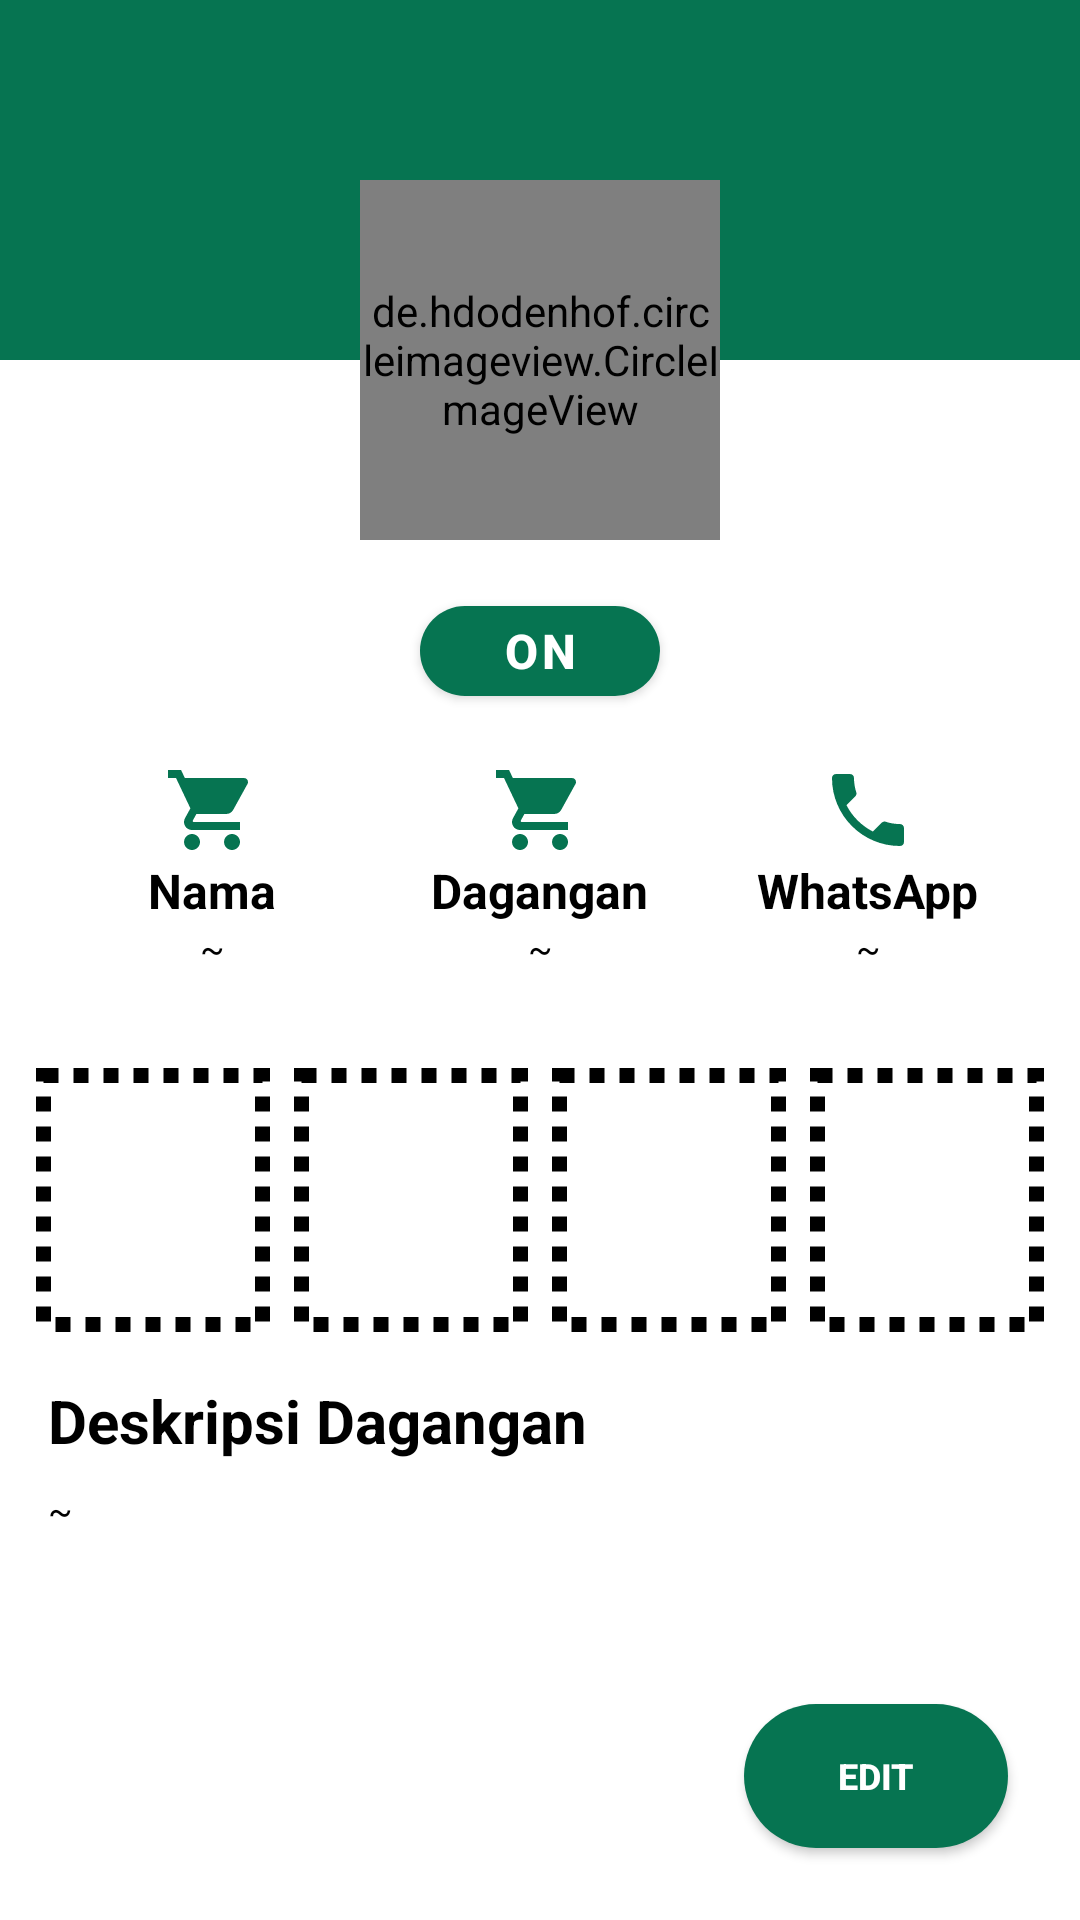

Point at icon controls on the screen. Image size 1080px x 1920px, points as (x,y).
local phone: (868,810)
shopping cart: (208,810), (536,810)
